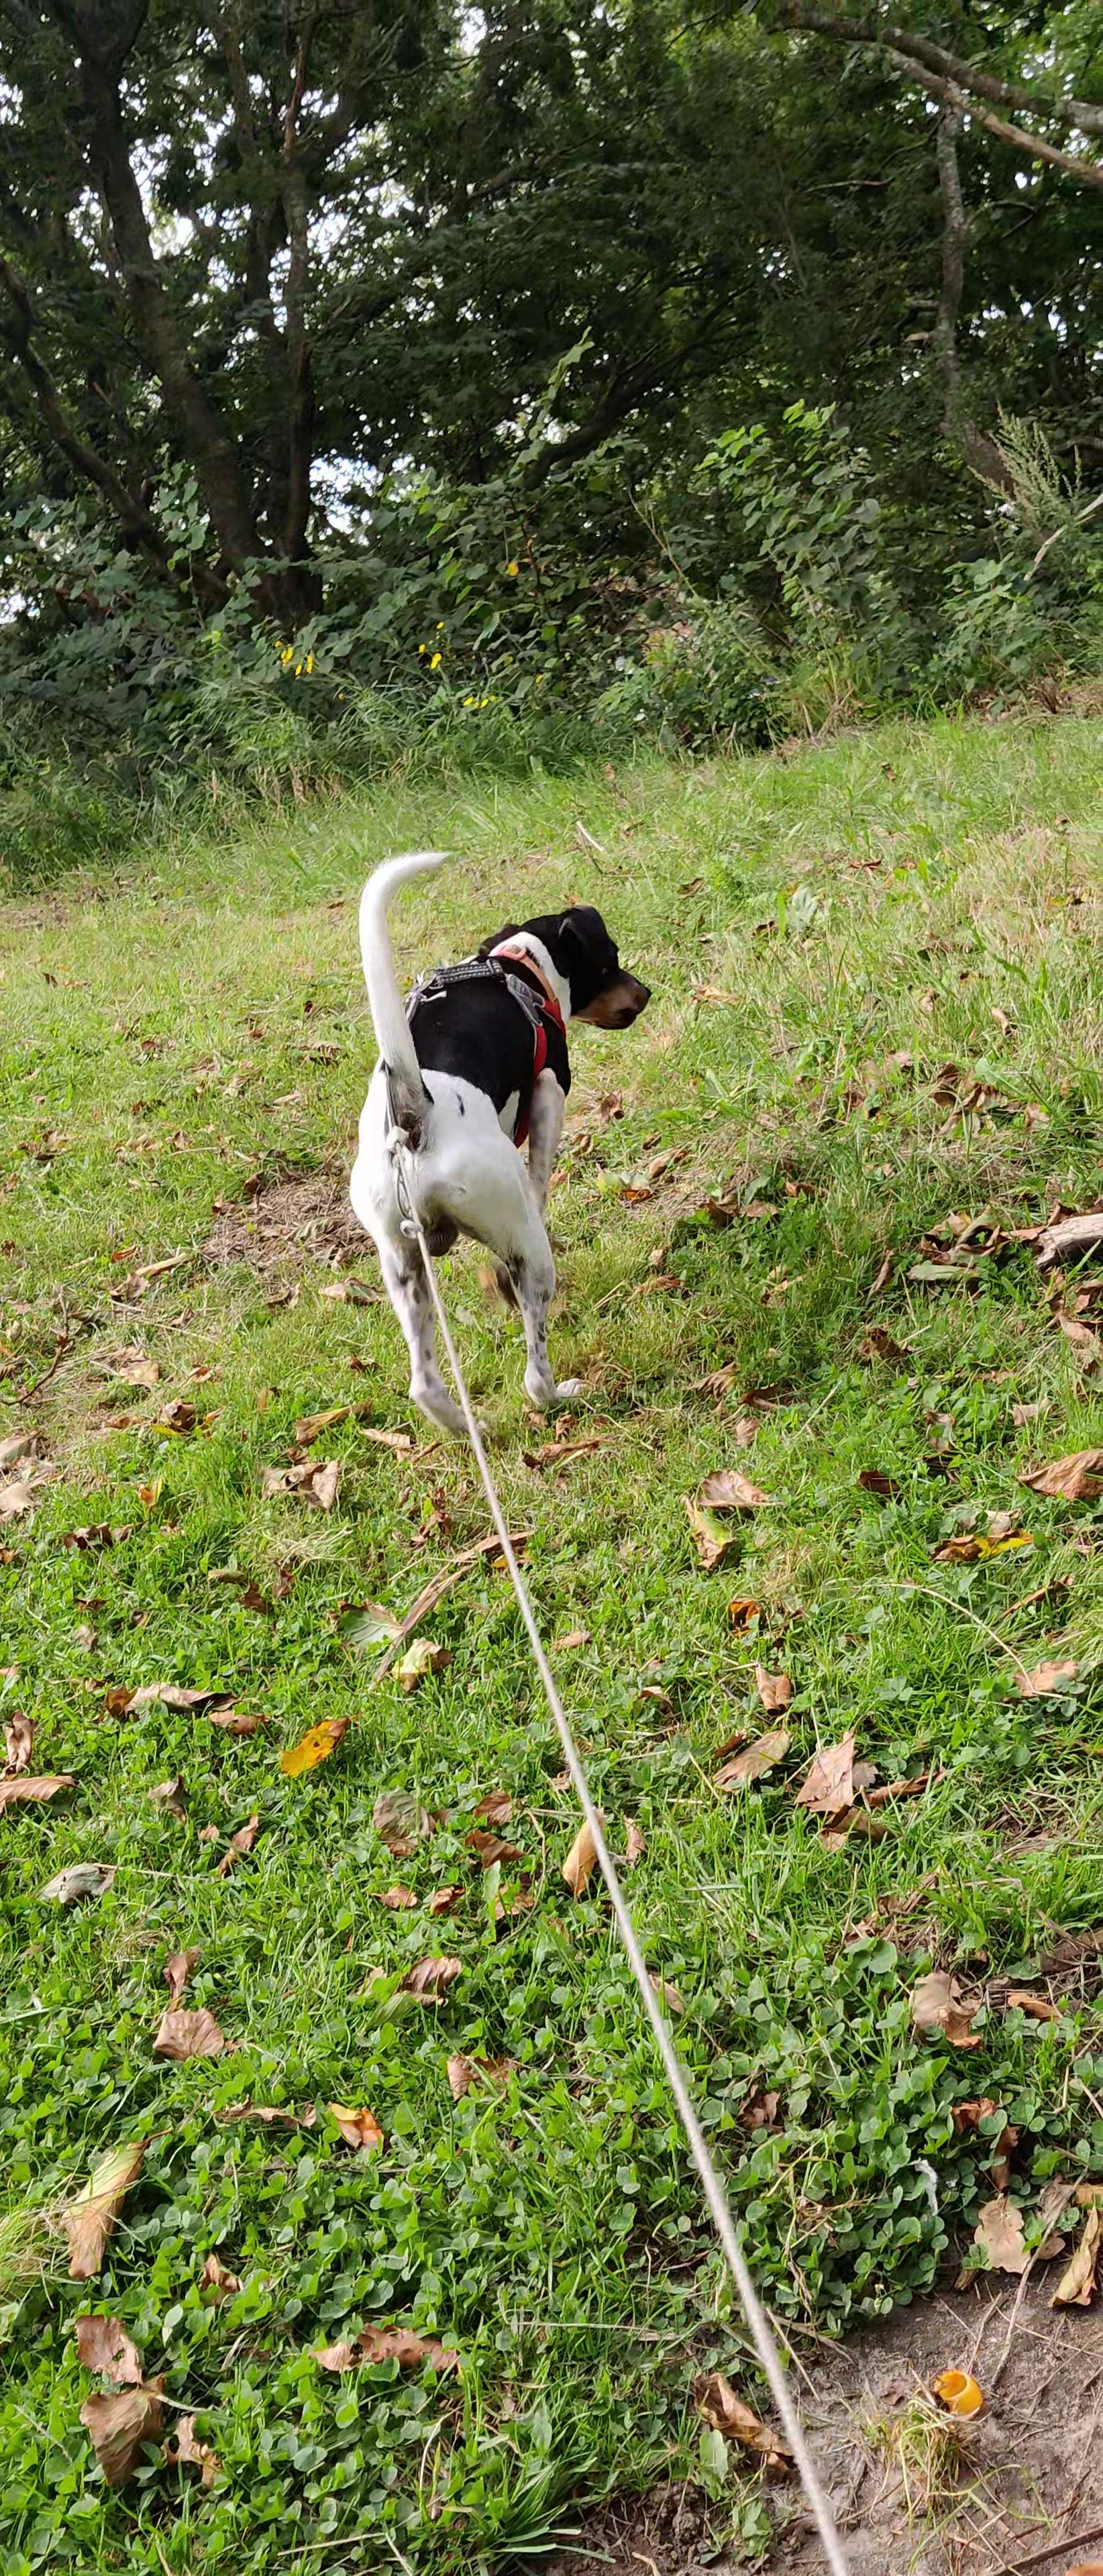Dog: (340, 843, 656, 1452)
